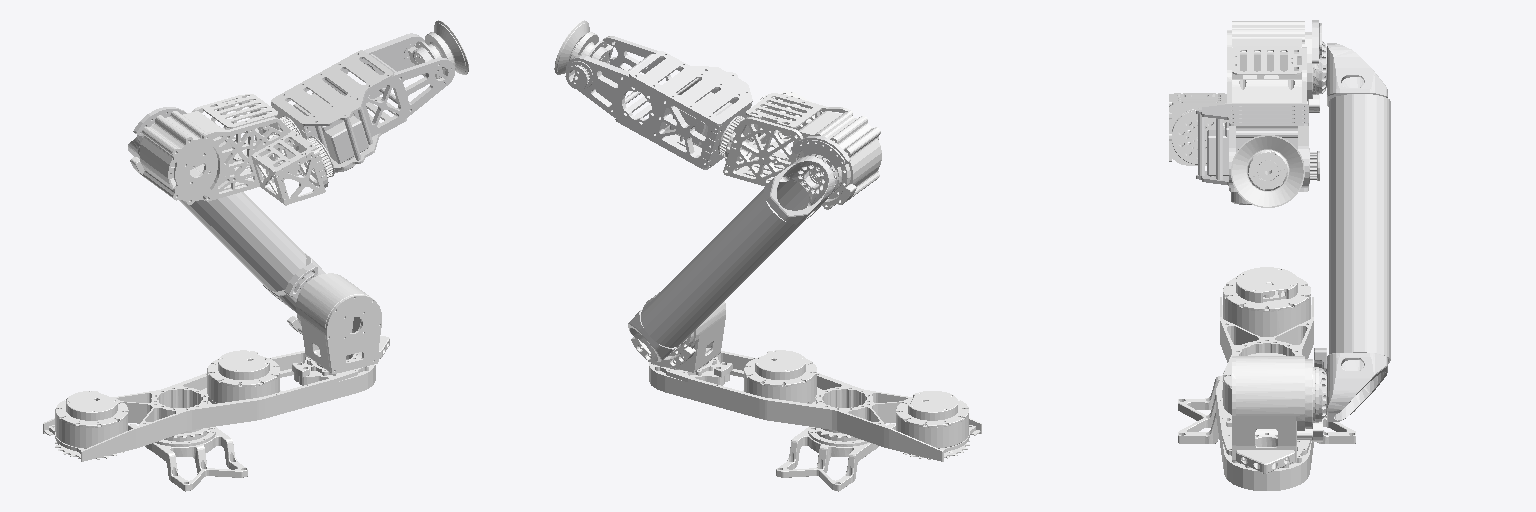
robot.urdf — robot_arm_simulation:
<?xml version="1.0" encoding="utf-8"?>
<!-- This URDF was automatically created by SolidWorks to URDF Exporter! Originally created by [author] ([email redacted]) 
     Commit Version: 1.6.0-4-g7f85cfe  Build Version: 1.6.7995.38578
     For more information, please see http://wiki.ros.org/sw_urdf_exporter -->
<robot
  name="robot_arm_simulation">
  <link
    name="base_link">
    <inertial>
      <origin
        xyz="0.00106636629393505 -0.0293070547501314 -0.0202271384386062"
        rpy="0 0 0" />
      <mass
        value="0.181232960202139" />
      <inertia
        ixx="0.000378119657215816"
        ixy="3.43630639396438E-08"
        ixz="1.2081423121706E-08"
        iyy="0.000223474959293216"
        iyz="-3.05424708977584E-08"
        izz="0.000529739128883702" />
    </inertial>
    <visual>
      <origin
        xyz="0 0 0"
        rpy="0 0 0" />
      <geometry>
        <mesh
          filename="package://robot_arm_simulation/meshes/base_link.STL" />
      </geometry>
      <material
        name="">
        <color
          rgba="1 1 1 1" />
      </material>
    </visual>
    <collision>
      <origin
        xyz="0 0 0"
        rpy="0 0 0" />
      <geometry>
        <mesh
          filename="package://robot_arm_simulation/meshes/base_link.STL" />
      </geometry>
    </collision>
  </link>
  <link
    name="link0">
    <inertial>
      <origin
        xyz="0.0111890887322725 7.95670400899548E-05 0.0214102523586093"
        rpy="0 0 0" />
      <mass
        value="0.879776233355334" />
      <inertia
        ixx="0.000862763875907959"
        ixy="6.15528323430402E-07"
        ixz="-3.96090868703226E-05"
        iyy="0.00403893616113799"
        iyz="4.5201151064285E-07"
        izz="0.00478940769522656" />
    </inertial>
    <visual>
      <origin
        xyz="0 0 0"
        rpy="0 0 0" />
      <geometry>
        <mesh
          filename="package://robot_arm_simulation/meshes/link0.STL" />
      </geometry>
      <material
        name="">
        <color
          rgba="1 1 1 1" />
      </material>
    </visual>
    <collision>
      <origin
        xyz="0 0 0"
        rpy="0 0 0" />
      <geometry>
        <mesh
          filename="package://robot_arm_simulation/meshes/link0.STL" />
      </geometry>
    </collision>
  </link>
  <joint
    name="joint0"
    type="revolute">
    <origin
      xyz="0.00106821443596945 -0.0292999484608107 0.00800400717471925"
      rpy="0 0 0" />
    <parent
      link="base_link" />
    <child
      link="link0" />
    <axis
      xyz="0 0 -1" />
    <limit
      lower="-3.14"
      upper="3.14"
      effort="0"
      velocity="0" />
  </joint>
  <link
    name="link1">
    <inertial>
      <origin
        xyz="0.00281617747478818 0.0187461142617349 0.0803848783888099"
        rpy="0 0 0" />
      <mass
        value="0.305120412259981" />
      <inertia
        ixx="0.000603655935467257"
        ixy="1.75785098932972E-05"
        ixz="3.50259615822114E-05"
        iyy="0.000541484333663019"
        iyz="-5.95559669429248E-05"
        izz="0.000485737263645997" />
    </inertial>
    <visual>
      <origin
        xyz="0 0 0"
        rpy="0 0 0" />
      <geometry>
        <mesh
          filename="package://robot_arm_simulation/meshes/link1.STL" />
      </geometry>
      <material
        name="">
        <color
          rgba="1 1 1 1" />
      </material>
    </visual>
    <collision>
      <origin
        xyz="0 0 0"
        rpy="0 0 0" />
      <geometry>
        <mesh
          filename="package://robot_arm_simulation/meshes/link1.STL" />
      </geometry>
    </collision>
  </link>
  <joint
    name="joint1"
    type="revolute">
    <origin
      xyz="0.25 0 -0.00150000000000016"
      rpy="0 0 0" />
    <parent
      link="link0" />
    <child
      link="link1" />
    <axis
      xyz="0 0 -1" />
    <limit
      lower="-2.5730"
      upper="2.5730"
      effort="0"
      velocity="0" />
  </joint>
  <link
    name="link2">
    <inertial>
      <origin
        xyz="0.190000000000004 -3.88578058618805E-16 0.00570000000000492"
        rpy="0 0 0" />
      <mass
        value="0.00120144062508099" />
      <inertia
        ixx="3.01098397352896E-09"
        ixy="-2.55392014125747E-23"
        ixz="-5.66282845613959E-24"
        iyy="3.01098397352889E-09"
        iyz="-2.19537552223302E-24"
        izz="2.81812628017522E-09" />
    </inertial>
    <visual>
      <origin
        xyz="0 0 0"
        rpy="0 0 0" />
      <geometry>
        <mesh
          filename="package://robot_arm_simulation/meshes/link2.STL" />
      </geometry>
      <material
        name="">
        <color
          rgba="0.956862745098039 0.956862745098039 0.96078431372549 1" />
      </material>
    </visual>
    <collision>
      <origin
        xyz="0 0 0"
        rpy="0 0 0" />
      <geometry>
        <mesh
          filename="package://robot_arm_simulation/meshes/link2.STL" />
      </geometry>
    </collision>
  </link>
  <joint
    name="joint2"
    type="revolute">
    <origin
      xyz="0 0.0612999999999991 0.0969999999999984"
      rpy="1.5707963267949 -0.870669676164259 3.14159265358979" />
    <parent
      link="link1" />
    <child
      link="link2" />
    <axis
      xyz="0 0 -1" />
    <limit
      lower="-2.0933"
      upper="0.7762"
      effort="0"
      velocity="0" />
  </joint>
  <link
    name="link3">
    <inertial>
      <origin
        xyz="0.062006399403465 -0.00325003674916025 0.0632250133882652"
        rpy="0 0 0" />
      <mass
        value="0.536763198214733" />
      <inertia
        ixx="0.00123232179572037"
        ixy="9.2314357372612E-06"
        ixz="-0.000550953767983446"
        iyy="0.00271071392480847"
        iyz="1.28365579081404E-05"
        izz="0.0022399403251366" />
    </inertial>
    <visual>
      <origin
        xyz="0 0 0"
        rpy="0 0 0" />
      <geometry>
        <mesh
          filename="package://robot_arm_simulation/meshes/link3.STL" />
      </geometry>
      <material
        name="">
        <color
          rgba="1 1 1 1" />
      </material>
    </visual>
    <collision>
      <origin
        xyz="0 0 0"
        rpy="0 0 0" />
      <geometry>
        <mesh
          filename="package://robot_arm_simulation/meshes/link3.STL" />
      </geometry>
    </collision>
  </link>
  <joint
    name="joint3"
    type="revolute">
    <origin
      xyz="0.380000000000003 0 -0.000800000000014886"
      rpy="-3.14159265358979 0 2.27092297742553" />
    <parent
      link="link2" />
    <child
      link="link3" />
    <axis
      xyz="0 0 1" />
    <limit
      lower="-0.7762"
      upper="1.0921"
      effort="0"
      velocity="0" />
  </joint>
  <link
    name="link4">
    <inertial>
      <origin
        xyz="-1.06914163189309E-07 -0.0450249174201101 0.217000395801011"
        rpy="0 0 0" />
      <mass
        value="0.000706713940655294" />
      <inertia
        ixx="8.87478674239916E-08"
        ixy="-3.03366369960365E-15"
        ixz="2.14783082624719E-14"
        iyy="1.77314734251676E-07"
        iyz="2.51871944610431E-12"
        izz="8.87489535130983E-08" />
    </inertial>
    <visual>
      <origin
        xyz="0 0 0"
        rpy="0 0 0" />
      <geometry>
        <mesh
          filename="package://robot_arm_simulation/meshes/link4.STL" />
      </geometry>
      <material
        name="">
        <color
          rgba="0.956862745098039 0.956862745098039 0.96078431372549 1" />
      </material>
    </visual>
    <collision>
      <origin
        xyz="0 0 0"
        rpy="0 0 0" />
      <geometry>
        <mesh
          filename="package://robot_arm_simulation/meshes/link4.STL" />
      </geometry>
    </collision>
  </link>
  <joint
    name="joint4"
    type="revolute">
    <origin
      xyz="0.170925093942183 -0.00673187074768322 0.0605000000000014"
      rpy="1.57079632679489 0 1.85877565337396" />
    <parent
      link="link3" />
    <child
      link="link4" />
    <axis
      xyz="0 0 1" />
    <limit
      lower="-3.14"
      upper="3.14"
      effort="0"
      velocity="0" />
  </joint>
  <link
    name="link5">
    <inertial>
      <origin
        xyz="0.00116772554274452 1.35911570886549E-09 0.00192542639535063"
        rpy="0 0 0" />
      <mass
        value="0.0110671010673828" />
      <inertia
        ixx="7.41946836618334E-06"
        ixy="4.01153584298785E-14"
        ixz="1.55740108995894E-07"
        iyy="5.76159957745065E-06"
        iyz="-2.3060877335296E-13"
        izz="1.99830471370586E-06" />
    </inertial>
    <visual>
      <origin
        xyz="0 0 0"
        rpy="0 0 0" />
      <geometry>
        <mesh
          filename="package://robot_arm_simulation/meshes/link5.STL" />
      </geometry>
      <material
        name="">
        <color
          rgba="0.956862745098039 0.956862745098039 0.96078431372549 1" />
      </material>
    </visual>
    <collision>
      <origin
        xyz="0 0 0"
        rpy="0 0 0" />
      <geometry>
        <mesh
          filename="package://robot_arm_simulation/meshes/link5.STL" />
      </geometry>
    </collision>
  </link>
  <joint
    name="joint5"
    type="revolute">
    <origin
      xyz="0 -0.00100000000001002 0.216999999999999"
      rpy="1.5707963267949 -1.5707963267949 0" />
    <parent
      link="link4" />
    <child
      link="link5" />
    <axis
      xyz="0 0 -1" />
    <limit
      lower="-1.57"
      upper="1.57"
      effort="0"
      velocity="0" />
  </joint>
  <link
    name="link6">
    <inertial>
      <origin
        xyz="-4.4203297064338E-09 7.20313475532919E-10 0.022185925556943"
        rpy="0 0 0" />
      <mass
        value="0.0648590877011986" />
      <inertia
        ixx="1.76892288196296E-05"
        ixy="6.85681399282109E-09"
        ixz="5.19824027110117E-13"
        iyy="1.77097922285405E-05"
        iyz="3.49961277322789E-13"
        izz="2.88930432119029E-05" />
    </inertial>
    <visual>
      <origin
        xyz="0 0 0"
        rpy="0 0 0" />
      <geometry>
        <mesh
          filename="package://robot_arm_simulation/meshes/link6.STL" />
      </geometry>
      <material
        name="">
        <color
          rgba="1 1 1 1" />
      </material>
    </visual>
    <collision>
      <origin
        xyz="0 0 0"
        rpy="0 0 0" />
      <geometry>
        <mesh
          filename="package://robot_arm_simulation/meshes/link6.STL" />
      </geometry>
    </collision>
  </link>
  <joint
    name="joint6"
    type="revolute">
    <origin
      xyz="0 0 0"
      rpy="3.14159265358979 -1.5707963267949 0" />
    <parent
      link="link5" />
    <child
      link="link6" />
    <axis
      xyz="0 0 -1" />
    <limit
      lower="-3.14"
      upper="3.14"
      effort="0"
      velocity="0" />
  </joint>
</robot>

--- Facts derived from the render (not from the file) ---
Views: 3 orthographic renders of the robot side by side, from view 1: azimuth 30°, elevation 25°; view 2: azimuth 150°, elevation 25°; view 3: azimuth 270°, elevation 25°.
Robot: robot_arm_simulation — 8 links, 7 joints (7 revolute); root link base_link; default pose: every joint at zero.
Links seen in each view (by area): view 1: link0, link3, link4, link2, link1, base_link, link6; view 2: link0, link2, link4, link3, base_link, link1, link6; view 3: link2, link0, link3, link1, link4, link6, base_link.
Link boxes in pixels (x1,y1,x2,y2): link0: (43,350,375,461); link3: (130,94,334,205); link4: (271,33,454,172); link2: (128,107,325,311); link1: (287,273,389,373); base_link: (128,424,247,491); link6: (414,20,468,74); link0: (649,350,981,461); link2: (628,136,850,361); link4: (565,36,752,169); link3: (719,90,881,209); base_link: (776,423,895,491); link1: (631,292,725,372); link6: (554,20,608,74); link2: (1312,20,1390,421); link0: (1216,267,1313,490); link3: (1169,21,1319,165); link1: (1232,356,1322,473); link4: (1196,104,1319,204); link6: (1231,135,1304,207); base_link: (1178,376,1355,443).
Bounding box of the posed robot: 0.6252 × 0.249 × 0.5515 m (x, y, z).
8 mesh visuals loaded from 8 distinct referenced files (8 binary STL).